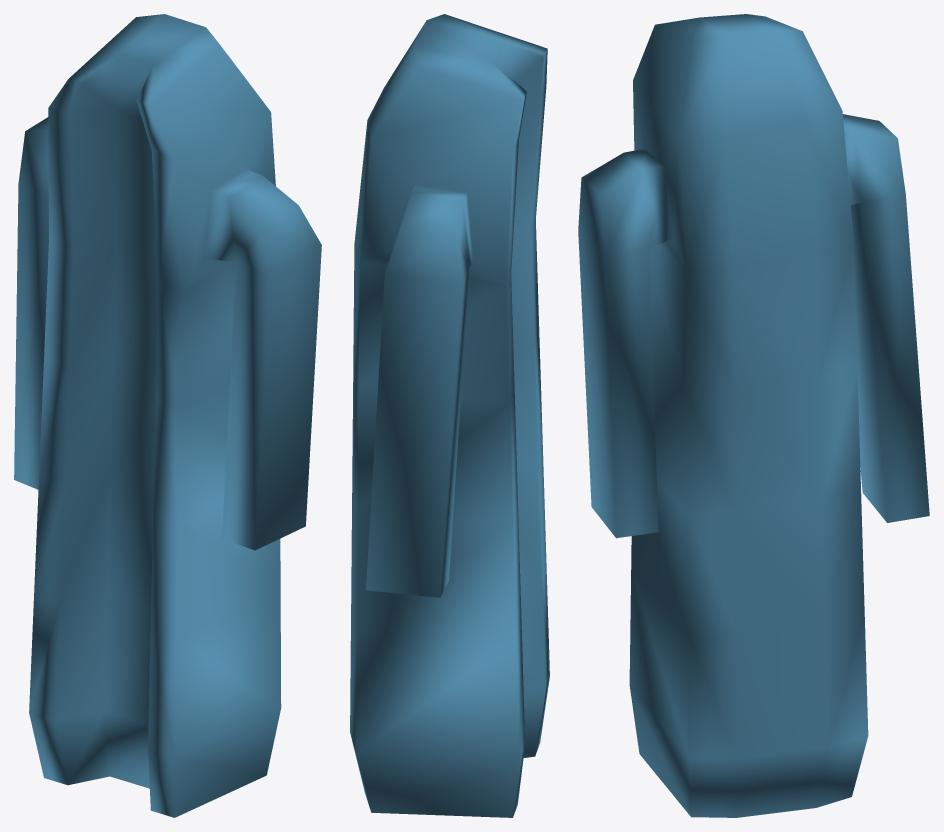
The model's file is mesh_coatrack_02.fbx.
3 renders of one model, left to right at view 1: azimuth 30°, elevation 25°; view 2: azimuth 150°, elevation 25°; view 3: azimuth 270°, elevation 25°, orthographic. The views are drawn at different scales.
Parts seen in each view (by area): view 1: mesh_coatrack_01; view 2: mesh_coatrack_01; view 3: mesh_coatrack_01.
Boxes of the visible parts, x1,y1,x2,y2 form: mesh_coatrack_01: [14, 14, 321, 817]; mesh_coatrack_01: [350, 14, 549, 817]; mesh_coatrack_01: [578, 14, 929, 817].
Bounding box in the file's own units: 9.04 × 33.6 × 14.
